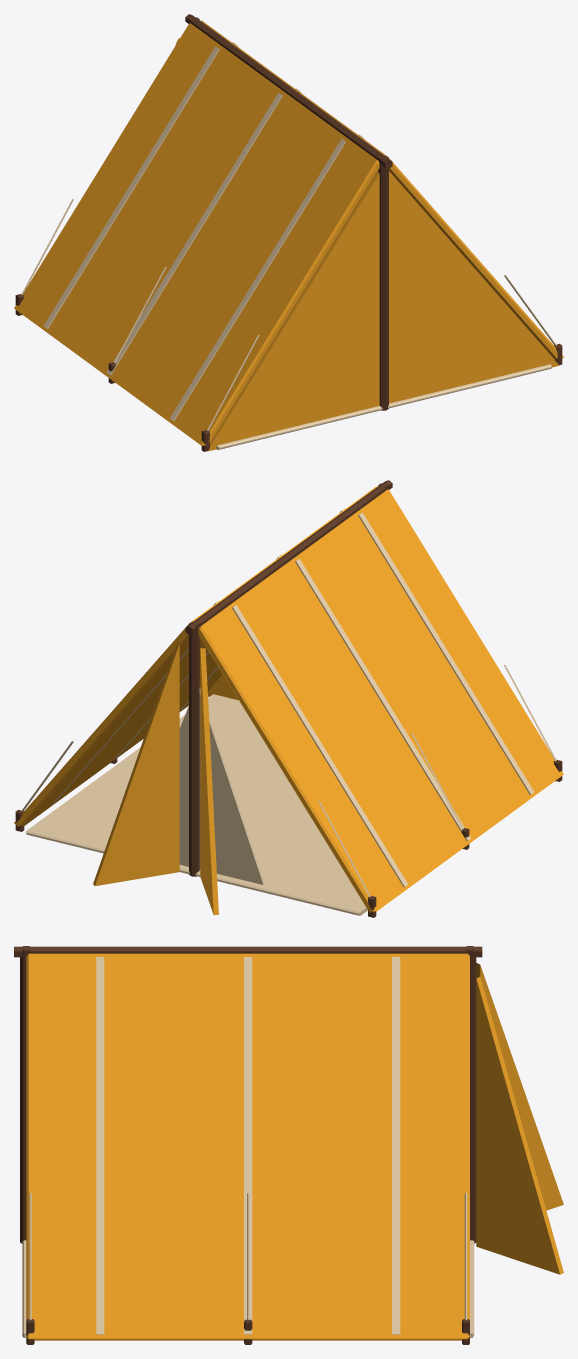
The model's file is PLAZA_TENT.glb.
3 views of the same model, one above another, from view 1: azimuth 30°, elevation 25°; view 2: azimuth 150°, elevation 25°; view 3: azimuth 270°, elevation 25° (orthographic). The views are drawn at different scales.
Parts seen in each view (by area): view 1: Featured, PropCream, WoodDark, Rope; view 2: Featured, PropCream, WoodDark, Rope; view 3: Featured, PropCream, WoodDark, Rope.
Part boxes in pixels (x1,y1,x2,y2): Featured: (14, 20, 563, 451); PropCream: (43, 42, 551, 449); WoodDark: (15, 14, 562, 451); Rope: (21, 199, 556, 430); Featured: (14, 486, 563, 915); PropCream: (26, 508, 534, 915); WoodDark: (15, 480, 562, 917); Rope: (21, 665, 556, 896); Featured: (26, 953, 563, 1340); PropCream: (22, 957, 474, 1337); WoodDark: (14, 946, 482, 1344); Rope: (29, 1192, 467, 1320).
Bounding box in the file's own units: 10.72 × 7.12 × 12.
